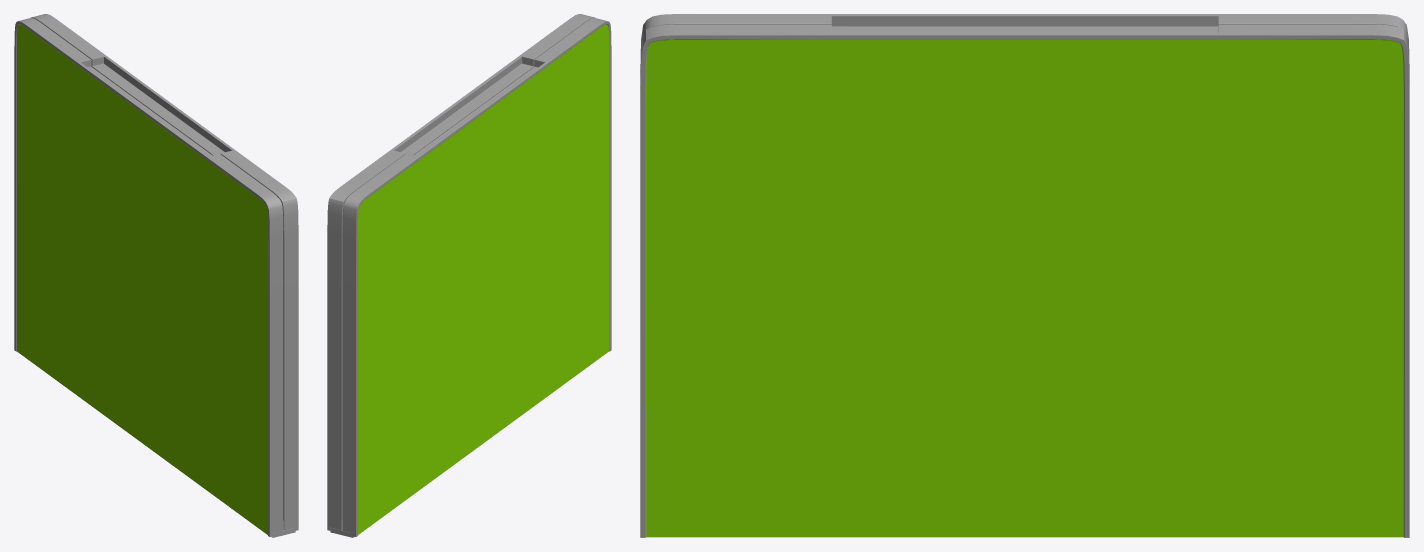
File: DVD_Box.fbx
The picture shows the model from 3 angles, left to right: view 1: azimuth 30°, elevation 25°; view 2: azimuth 150°, elevation 25°; view 3: azimuth 270°, elevation 25°; orthographic projection. The views are drawn at different scales.
Parts seen in each view (by area): view 1: DVD_Case_FaceB, DVD_Case_FaceA; view 2: DVD_Case_FaceB, DVD_Case_FaceA; view 3: DVD_Case_FaceA, DVD_Case_FaceB.
Boxes of the visible parts, bbox=[...] form: DVD_Case_FaceB: bbox=[14, 18, 283, 536]; DVD_Case_FaceA: bbox=[30, 14, 298, 530]; DVD_Case_FaceB: bbox=[342, 18, 611, 536]; DVD_Case_FaceA: bbox=[327, 14, 595, 530]; DVD_Case_FaceA: bbox=[640, 24, 1409, 537]; DVD_Case_FaceB: bbox=[640, 14, 1409, 73].
Size of the model in its own units: 2.62 by 29.08 by 40.14.
